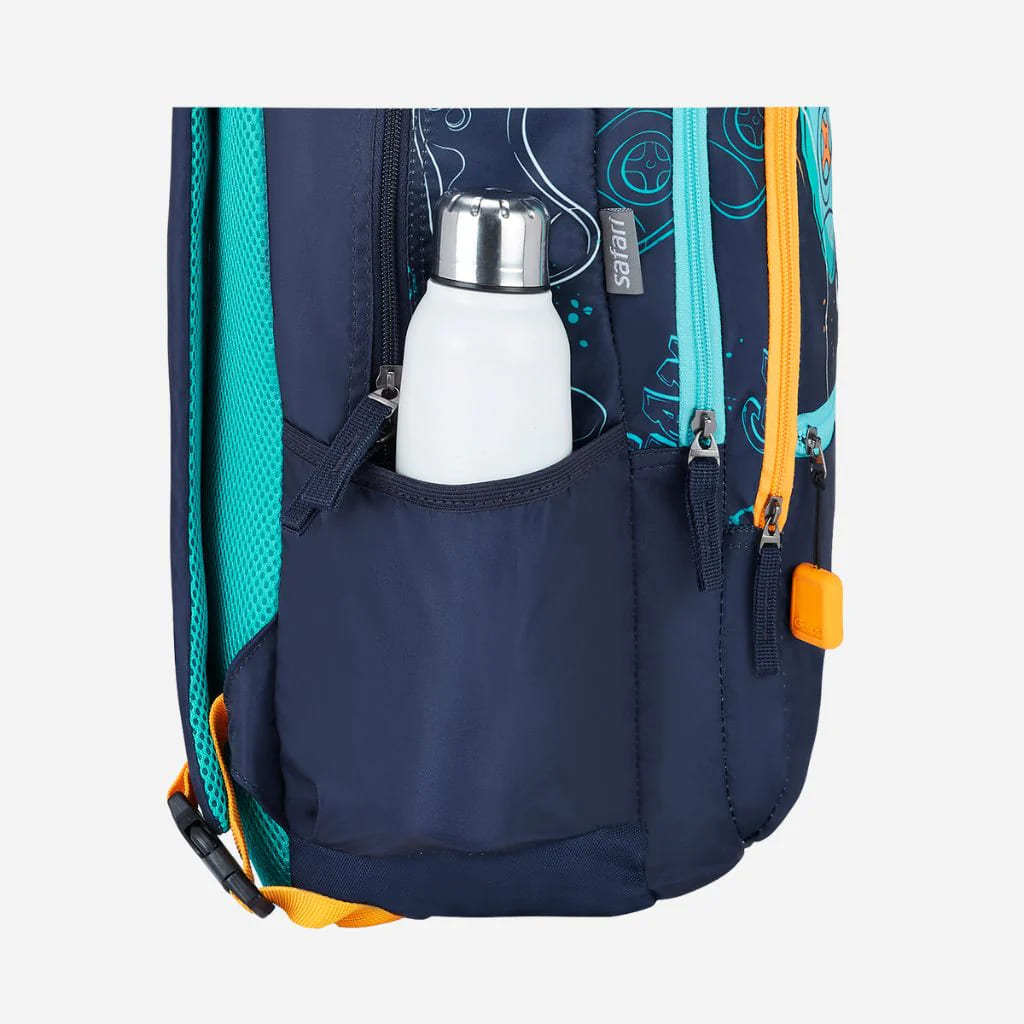backpack: (165, 105, 843, 929)
